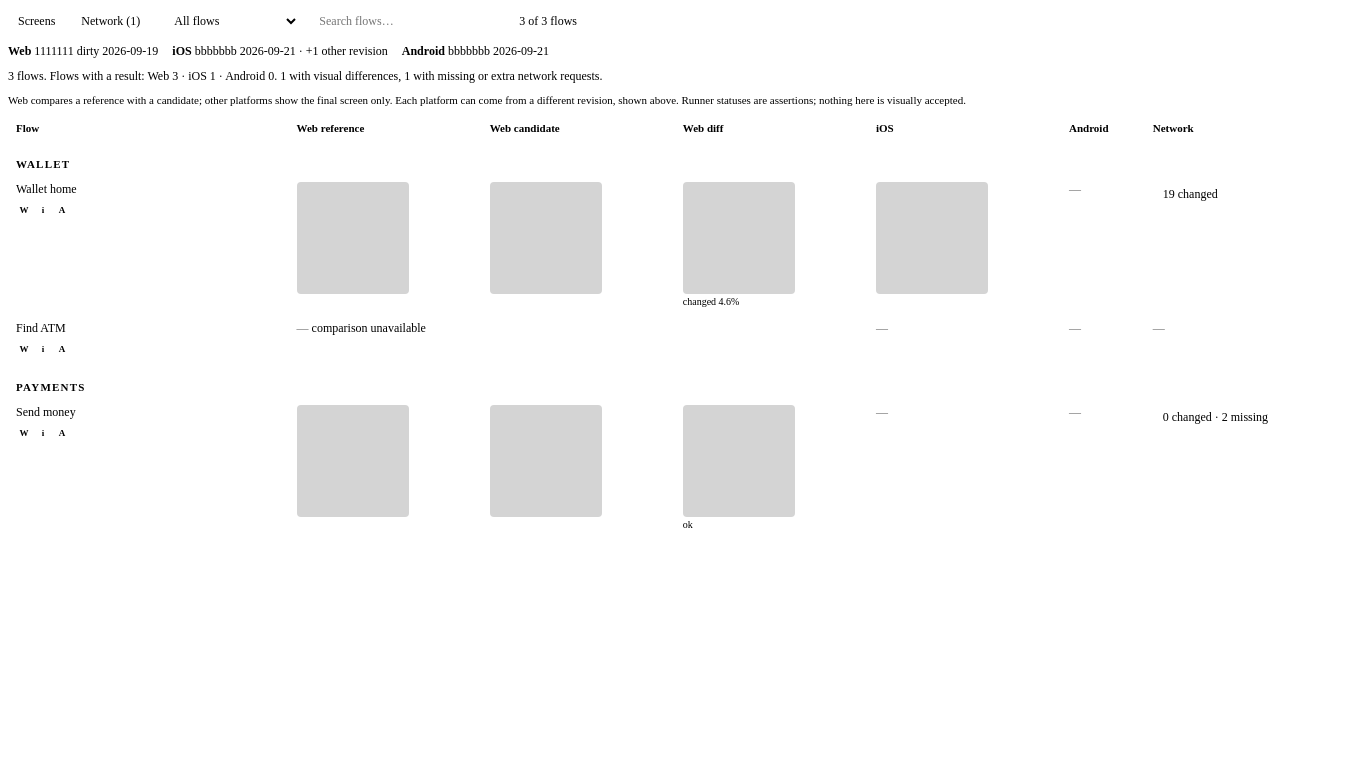
Test: SuiteGallery › lists network differences in their own section, most serious first, with what the runner asserted
Click the button "Network (1)".
click(111, 21)  # box left=71, top=8, right=150, bottom=34
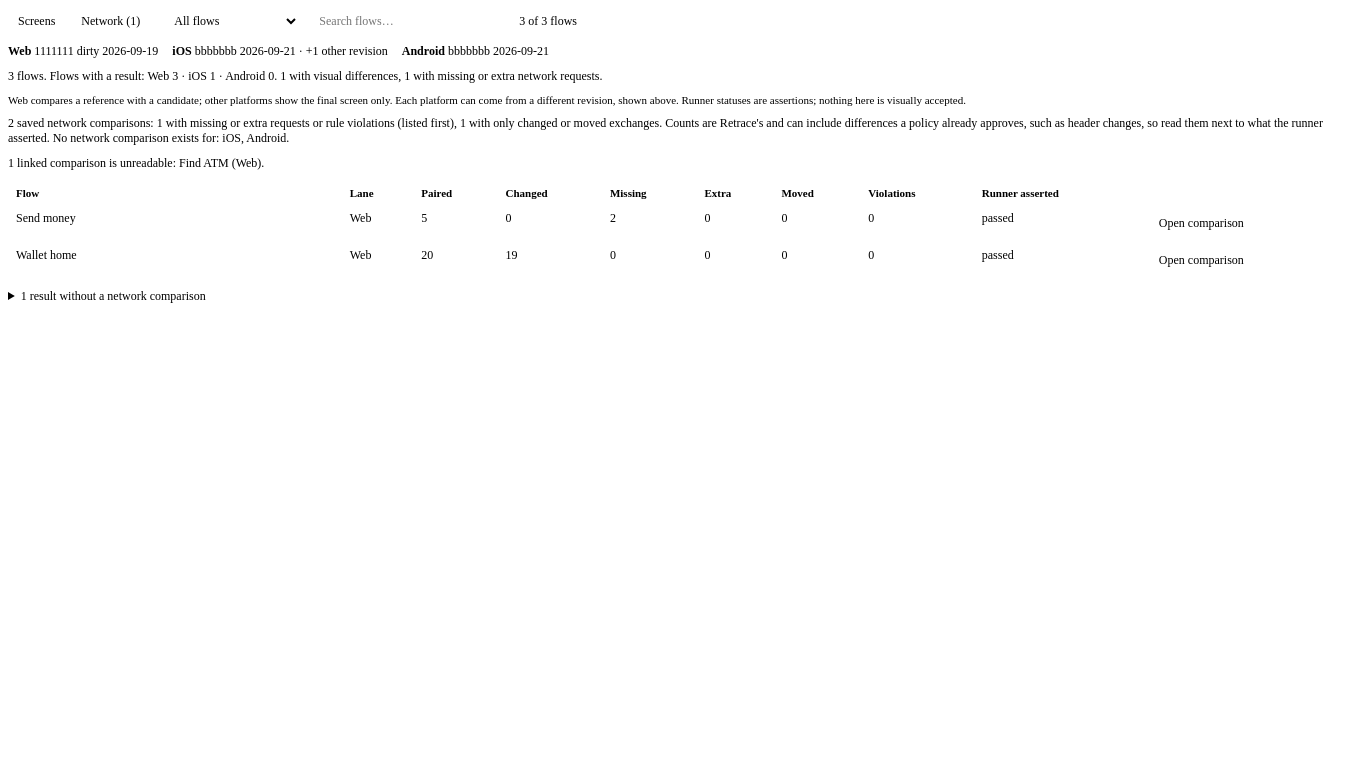
Expected: the row "Send money Web 5 0 2 0 0 0 passed Open comparison" is shown, left=8, top=205, right=1358, bottom=242
Expected: the row "Wallet home Web 20 19 0 0 0 0 passed Open comparison" is shown, left=8, top=242, right=1358, bottom=279
Expected: the text "1 with missing or extra requests or rule violations (listed first), 1 with only changed or moved" is shown, left=8, top=116, right=1358, bottom=146
